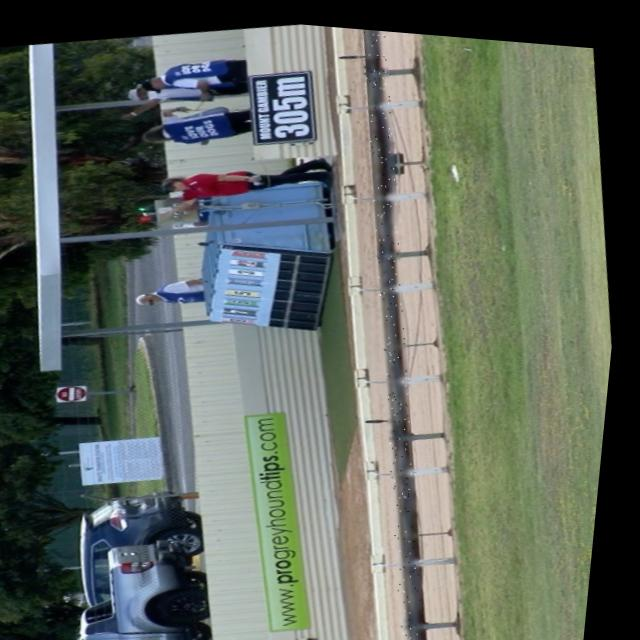rail: (364, 23, 436, 640)
